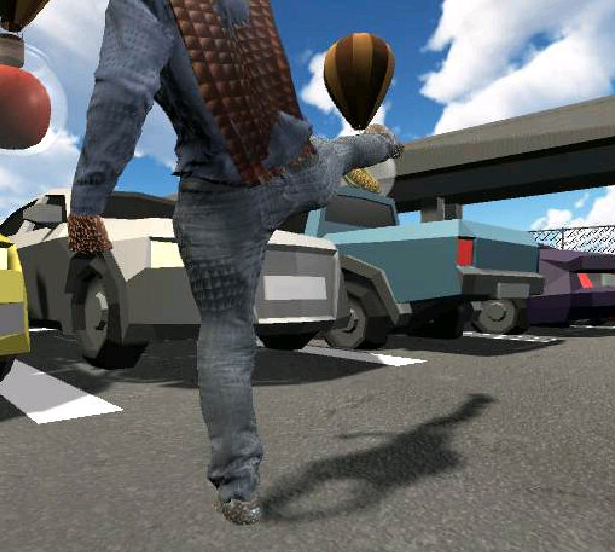turn_right: (72, 1, 411, 522)
